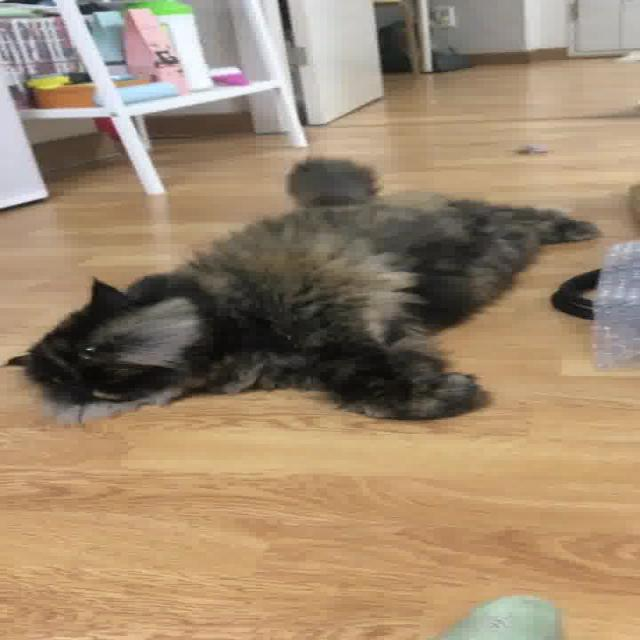cat: (1, 121, 618, 438)
